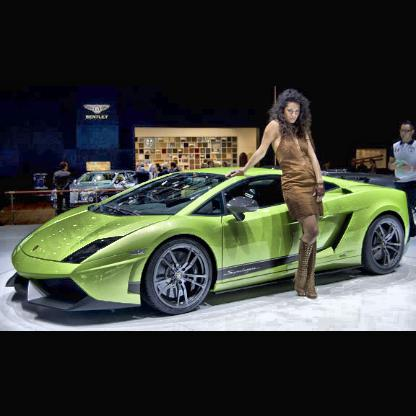Lamborghini Gallardo LP 570-4 Superleggera 2012: (8, 169, 411, 312)
